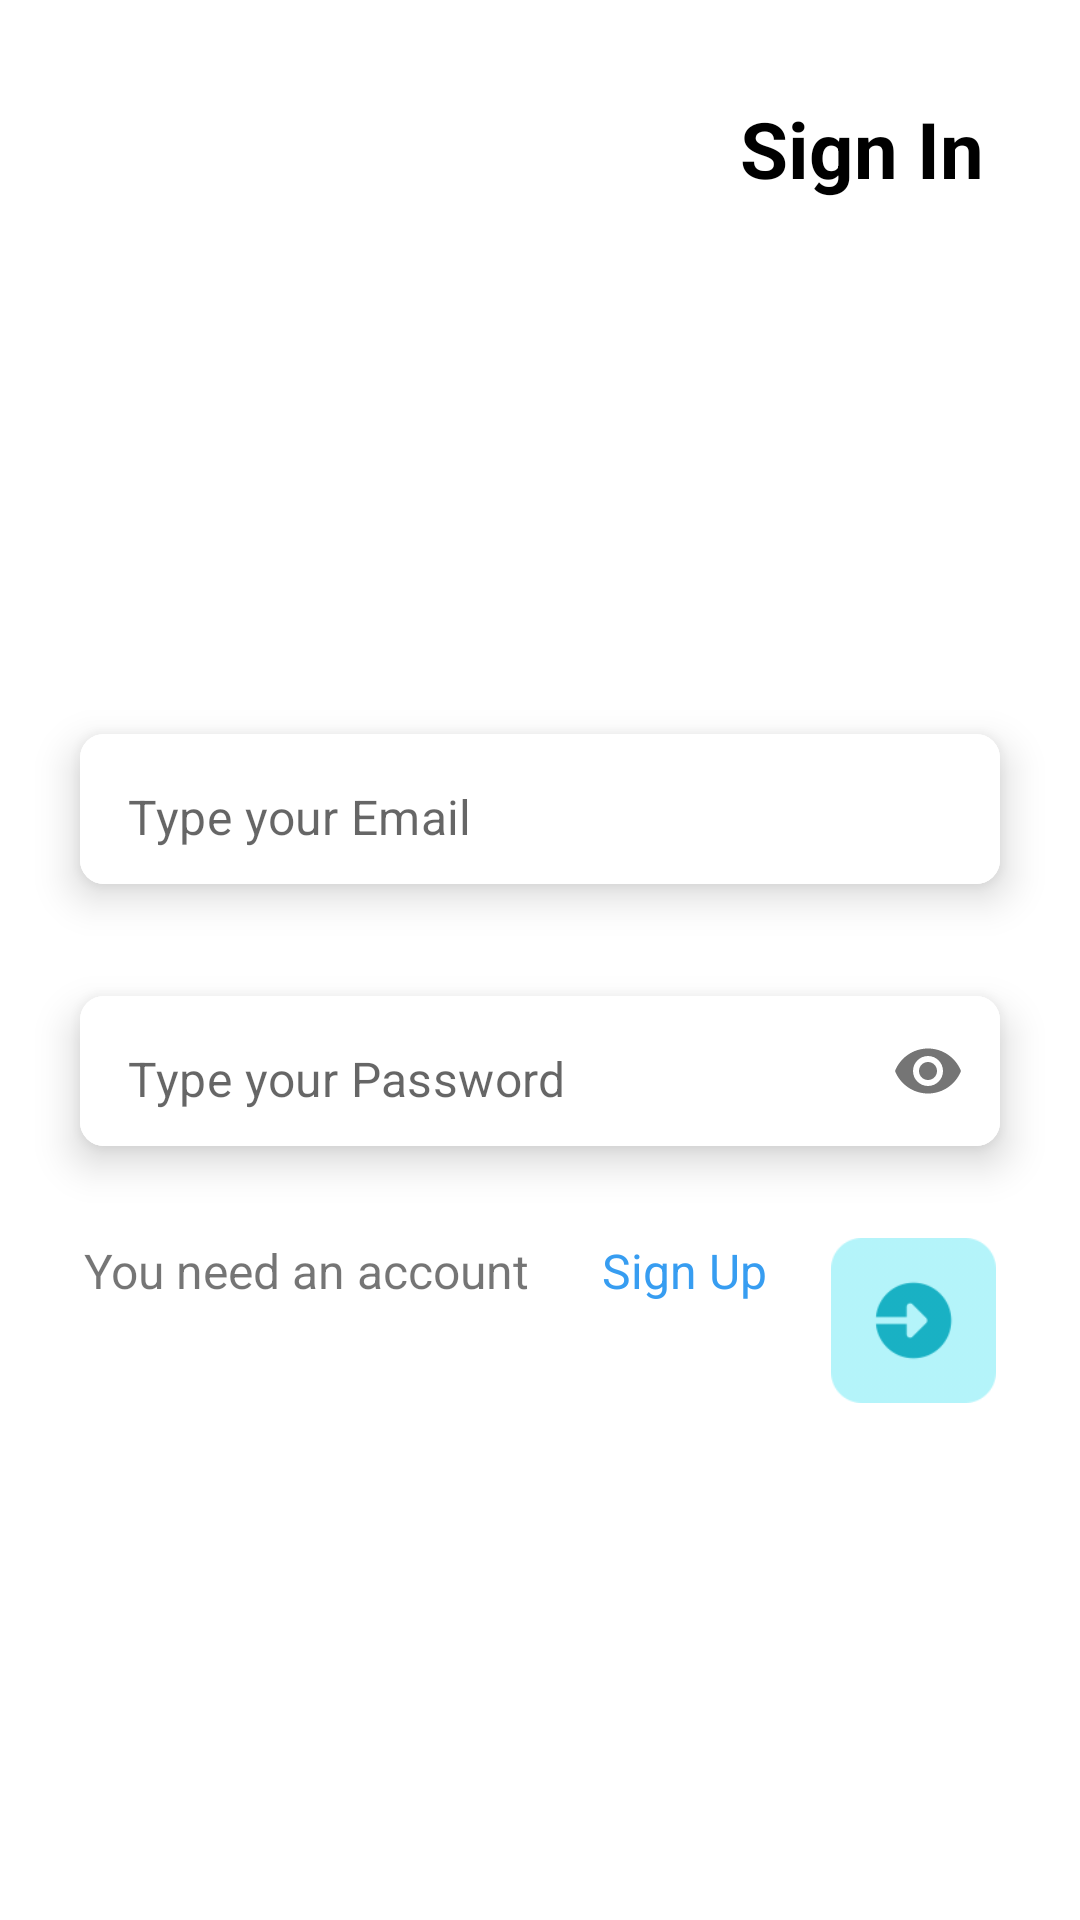

Locate icon controls on the screen. Image size 1080 x 1920, boxes as [x1=x1, y1=y1, x2=x2, y2=y2].
ent: [x1=831, y1=1238, x2=996, y2=1403]
